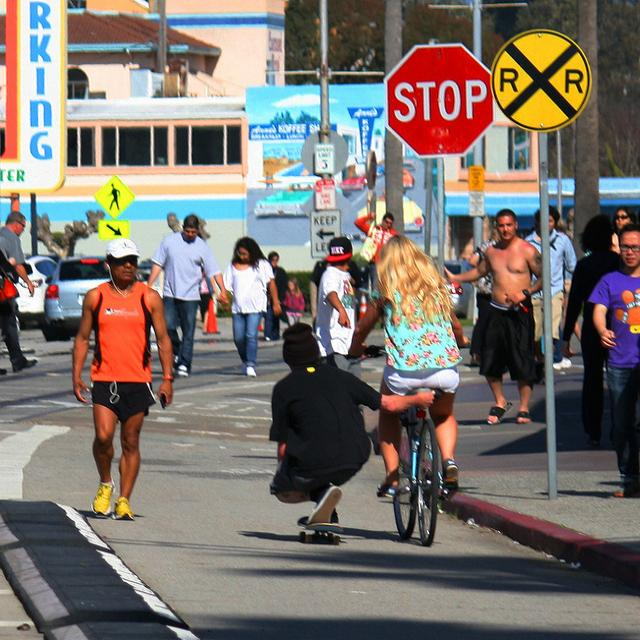Vehicle: (44, 252, 110, 341), (18, 253, 56, 315), (444, 258, 474, 316)
